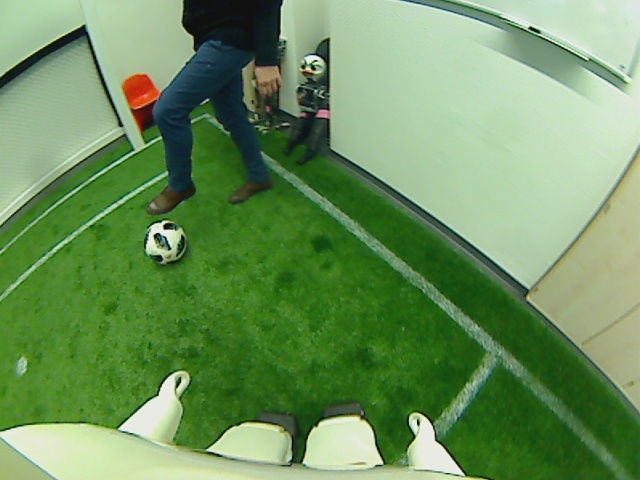ball: (143, 220, 188, 264)
